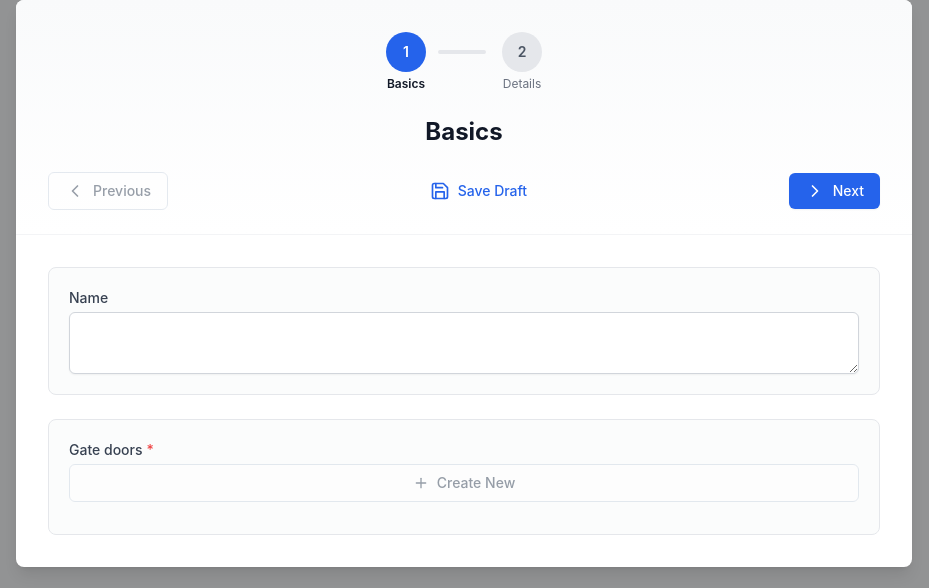
FormWizard required / min / max List (KNG-164) › does not block creating the parent of an owned child collection (items come after the save)
Type "High Street" into the text box at (464, 343), box [69,312,859,374]
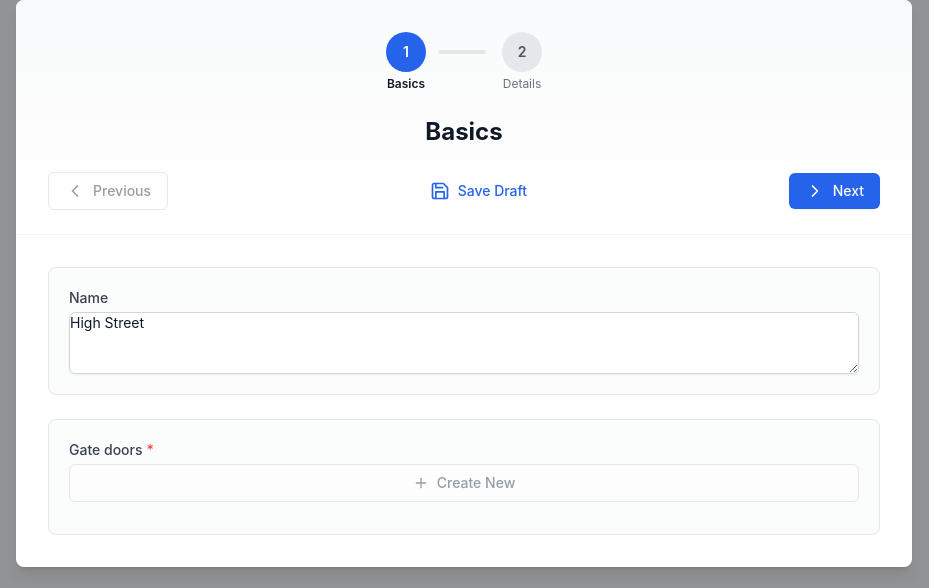
Click the button "Next" at (834, 191), box [789,173,880,209]
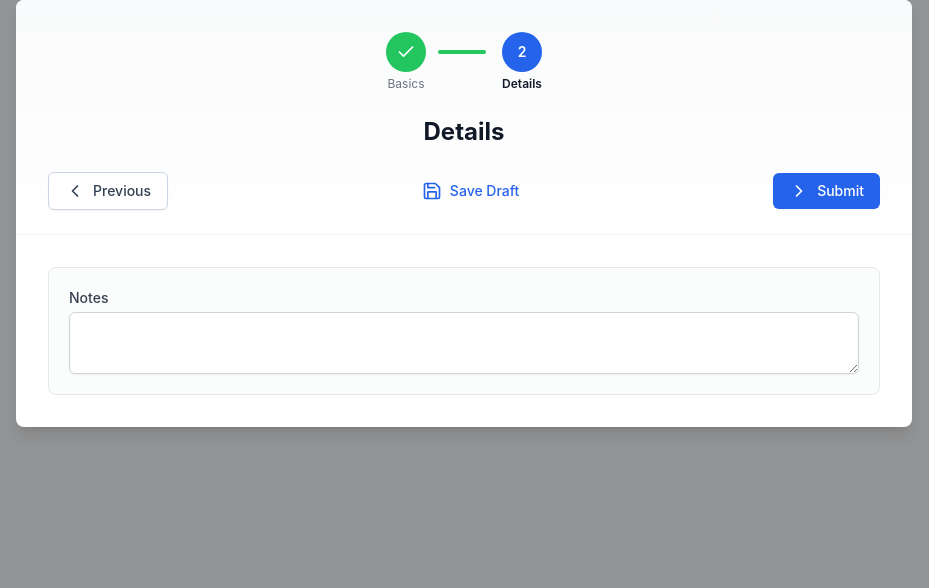
Expected: the button "Submit" is shown, [773,173,880,209]
